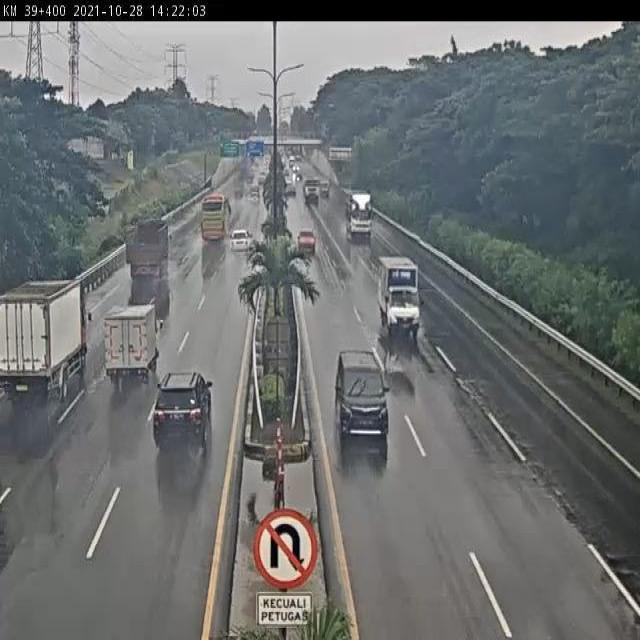big bus: (197, 191, 233, 245)
car: (335, 347, 392, 445), (150, 371, 214, 452), (227, 226, 252, 258), (298, 226, 318, 253)
truck-l-: (0, 277, 90, 411), (122, 217, 171, 284), (342, 188, 374, 241)
truck-s-: (102, 302, 164, 382), (374, 251, 424, 337)
